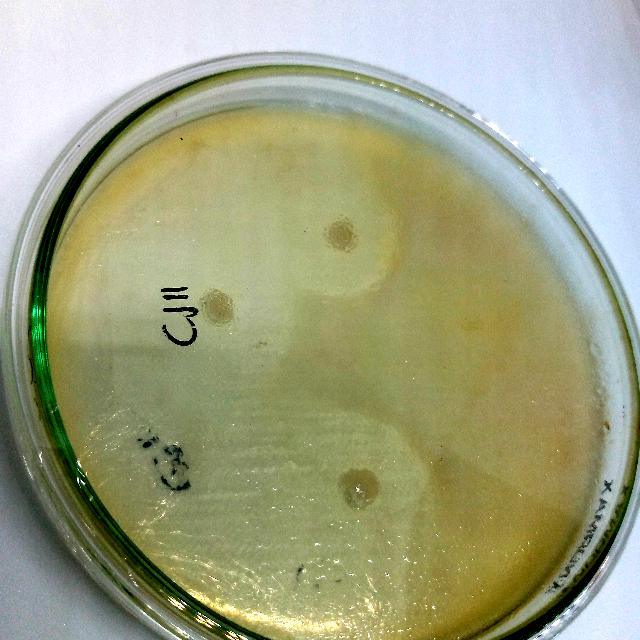colony: (192, 282, 244, 334), (337, 460, 388, 512), (318, 212, 362, 255)
